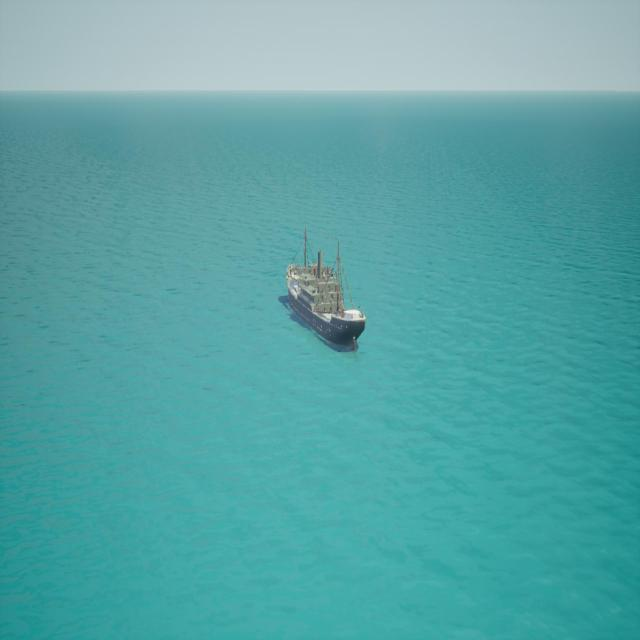fishing ship: (285, 230, 367, 352)
